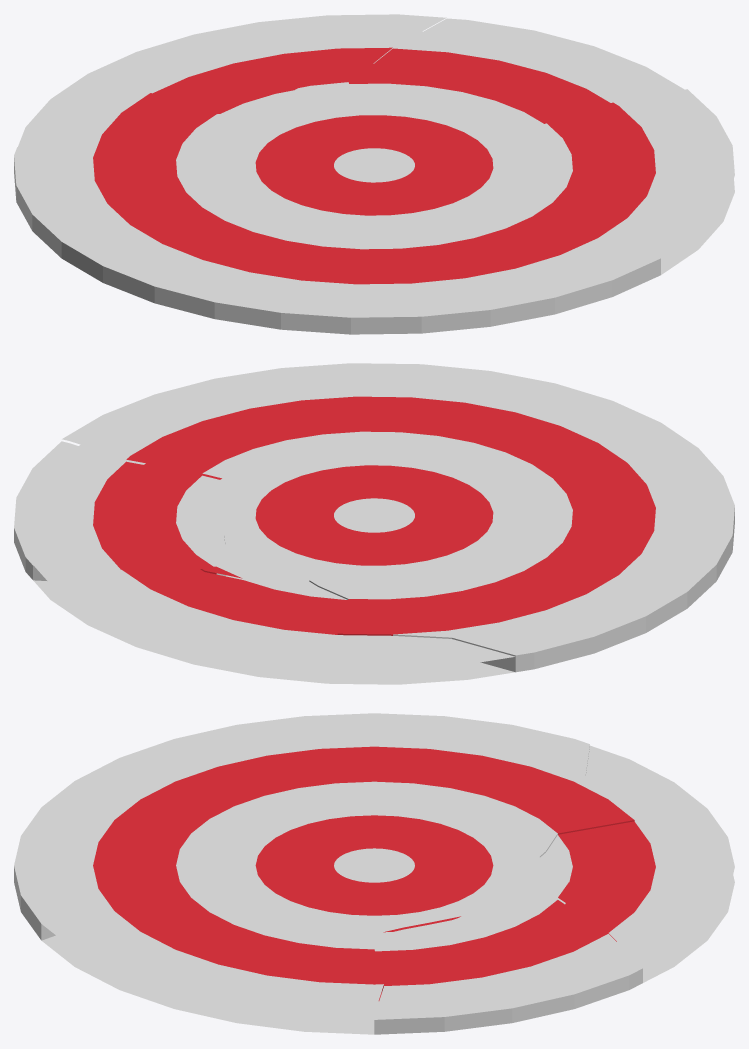
The model's file is broken target.fbx.
3 renders of one model, top to bottom at view 1: azimuth 30°, elevation 25°; view 2: azimuth 150°, elevation 25°; view 3: azimuth 270°, elevation 25°, orthographic.
Parts seen in each view (by area): view 1: Circle.005, Circle.006, Circle, Circle.007, Circle.001, Circle.002, Circle.004, Circle.003, Circle.008; view 2: Circle, Circle.006, Circle.001, Circle.007, Circle.005, Circle.002, Circle.004, Circle.003, Circle.008; view 3: Circle.006, Circle.001, Circle, Circle.002, Circle.005, Circle.007, Circle.004, Circle.003, Circle.008.
Part boxes in pixels (bbox=[...]): Circle.005: bbox=[214, 226, 660, 334]; Circle.006: bbox=[163, 135, 434, 284]; Circle: bbox=[18, 14, 446, 146]; Circle.007: bbox=[14, 154, 249, 318]; Circle.001: bbox=[349, 18, 684, 130]; Circle.002: bbox=[430, 89, 734, 193]; Circle.004: bbox=[430, 175, 734, 274]; Circle.003: bbox=[270, 75, 687, 173]; Circle.008: bbox=[14, 93, 279, 179]; Circle: bbox=[33, 565, 514, 684]; Circle.006: bbox=[359, 452, 655, 570]; Circle.001: bbox=[14, 441, 233, 580]; Circle.007: bbox=[474, 505, 734, 669]; Circle.005: bbox=[422, 364, 734, 507]; Circle.002: bbox=[62, 378, 370, 491]; Circle.004: bbox=[215, 363, 468, 489]; Circle.003: bbox=[62, 439, 392, 584]; Circle.008: bbox=[309, 560, 534, 672]; Circle.006: bbox=[127, 749, 483, 883]; Circle.001: bbox=[374, 898, 642, 1034]; Circle: bbox=[540, 745, 734, 982]; Circle.002: bbox=[174, 880, 383, 1034]; Circle.005: bbox=[14, 739, 225, 940]; Circle.007: bbox=[175, 713, 573, 799]; Circle.004: bbox=[42, 857, 322, 1008]; Circle.003: bbox=[332, 846, 571, 1034]; Circle.008: bbox=[424, 739, 634, 857].
Bounding box in the file's own units: 200 × 5.15 × 200.
